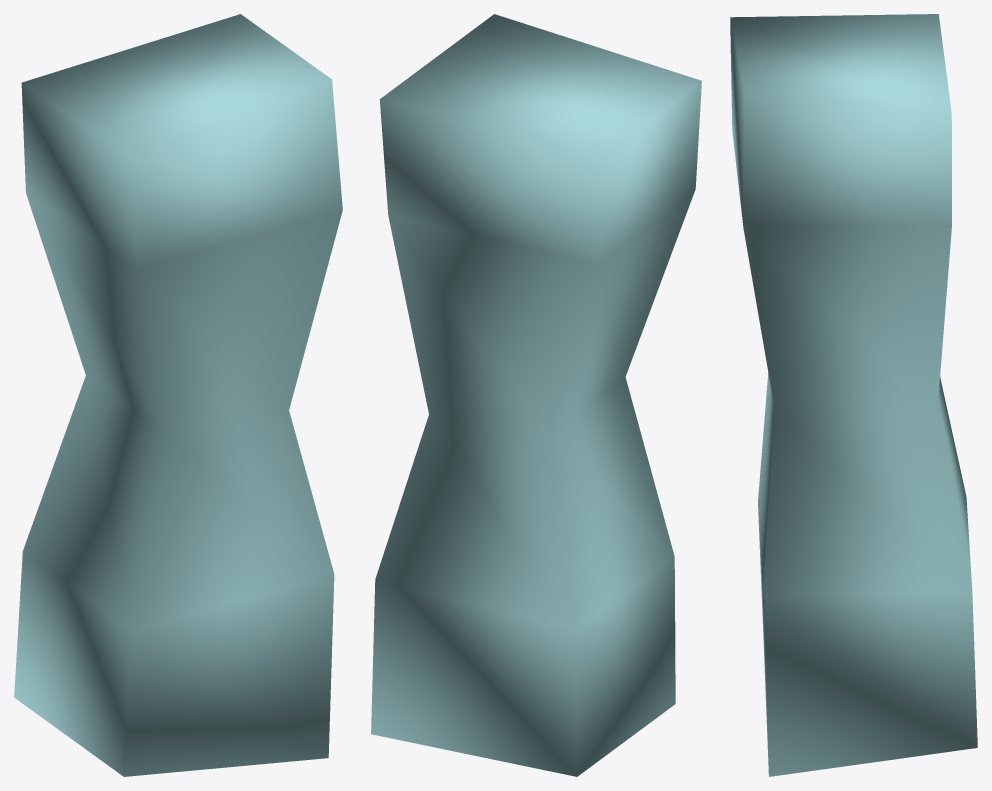
The model's file is Skelly_f_pinky.01.R.fbx.
3 views of the same model, side by side, from view 1: azimuth 30°, elevation 25°; view 2: azimuth 150°, elevation 25°; view 3: azimuth 270°, elevation 25° (orthographic). The views are drawn at different scales.
Parts seen in each view (by area): view 1: Skelly_f_pinky.01.R; view 2: Skelly_f_pinky.01.R; view 3: Skelly_f_pinky.01.R.
Part boxes in pixels (x1,y1,x2,y2): Skelly_f_pinky.01.R: [14, 14, 342, 776]; Skelly_f_pinky.01.R: [371, 14, 701, 776]; Skelly_f_pinky.01.R: [730, 14, 977, 776].
Bounding box in the file's own units: 1.43 × 4.19 × 1.38.
